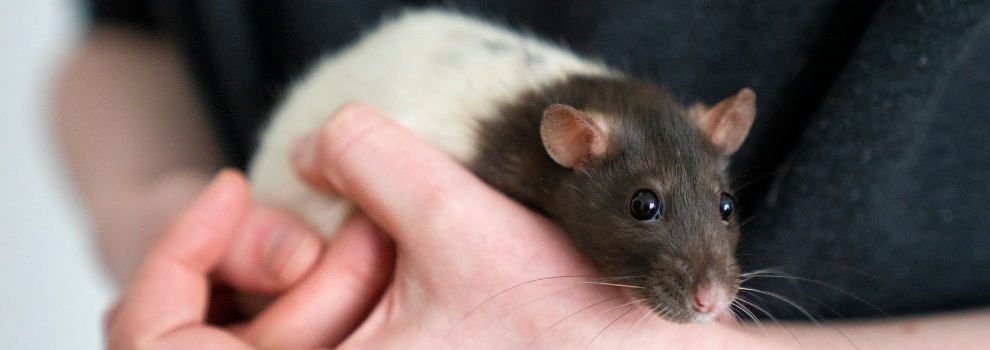Rat: (521, 64, 817, 350)
